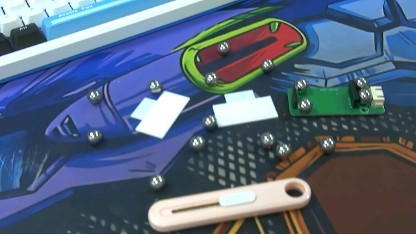ironball: (144, 170, 167, 192), (185, 132, 207, 152), (258, 127, 275, 151), (198, 113, 219, 132), (315, 132, 336, 151), (84, 125, 103, 144), (296, 97, 315, 116), (290, 73, 312, 89), (275, 136, 289, 159), (87, 87, 107, 102), (352, 74, 370, 89), (197, 69, 217, 82), (258, 58, 276, 72), (355, 89, 375, 101), (146, 80, 161, 94), (216, 38, 230, 53)
